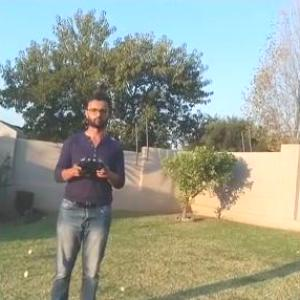follow: (48, 86, 129, 299)
